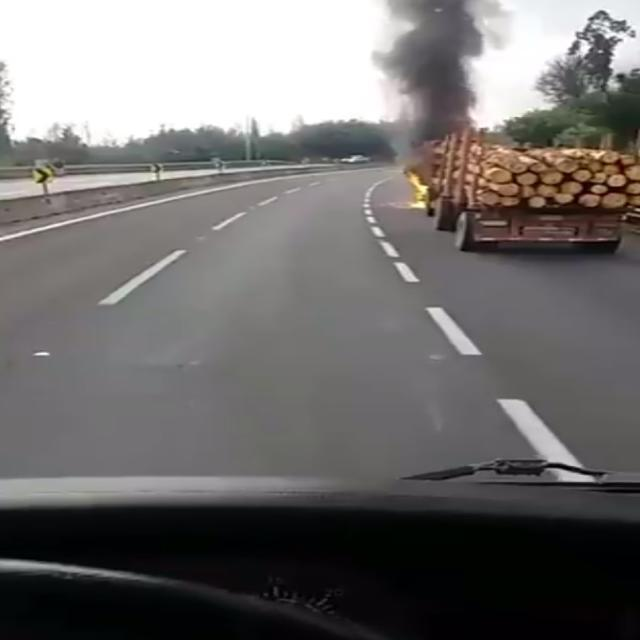Smoke: (406, 5, 470, 121)
